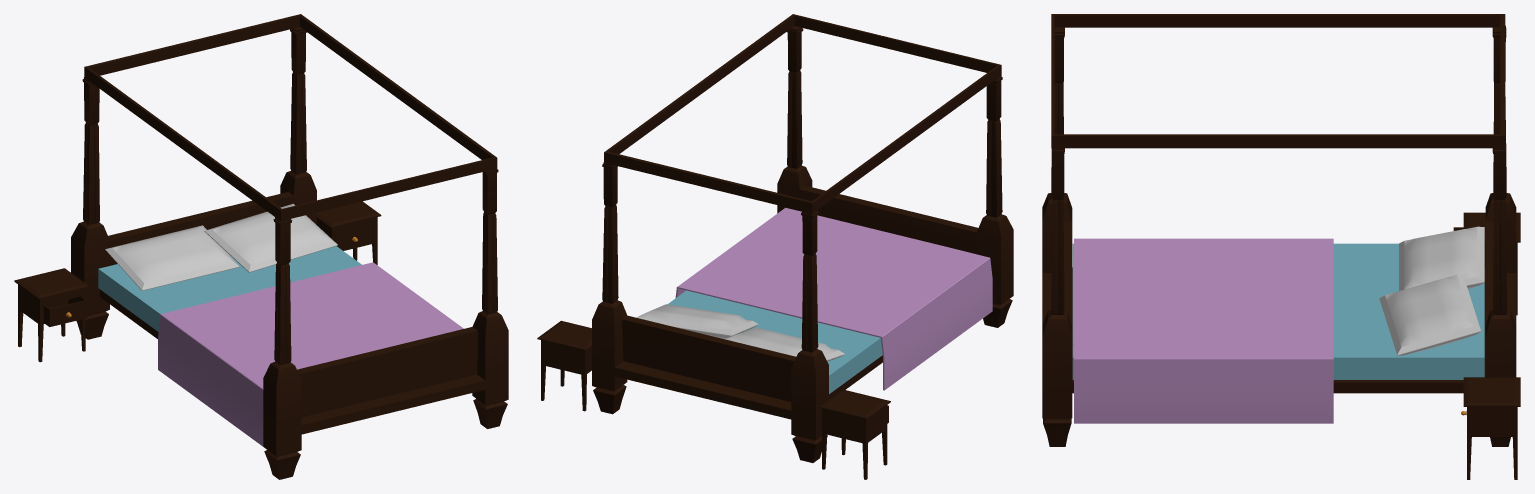
The model's file is Bed with Side Tables.FBX.
3 views of the same model, side by side, from view 1: azimuth 30°, elevation 25°; view 2: azimuth 150°, elevation 25°; view 3: azimuth 270°, elevation 25° (orthographic). The views are drawn at different scales.
Parts seen in each view (by area): view 1: Bedpost, Bedside Table, Bedside Table Close; view 2: Bedpost, Bedside Table, Bedside Table Close; view 3: Bedpost, Bedside Table Close, Bedside Table.
Part boxes in pixels (x1,y1,x2,y2): Bedpost: (71, 14, 508, 479); Bedside Table: (14, 268, 89, 362); Bedside Table Close: (317, 201, 381, 264); Bedpost: (592, 14, 1013, 462); Bedside Table: (818, 389, 890, 479); Bedside Table Close: (537, 320, 591, 411); Bedpost: (1042, 14, 1516, 446); Bedside Table Close: (1461, 377, 1520, 479); Bedside Table: (1453, 212, 1520, 315).
Bounding box in the file's own units: 7.21 × 5.4 × 7.55.
